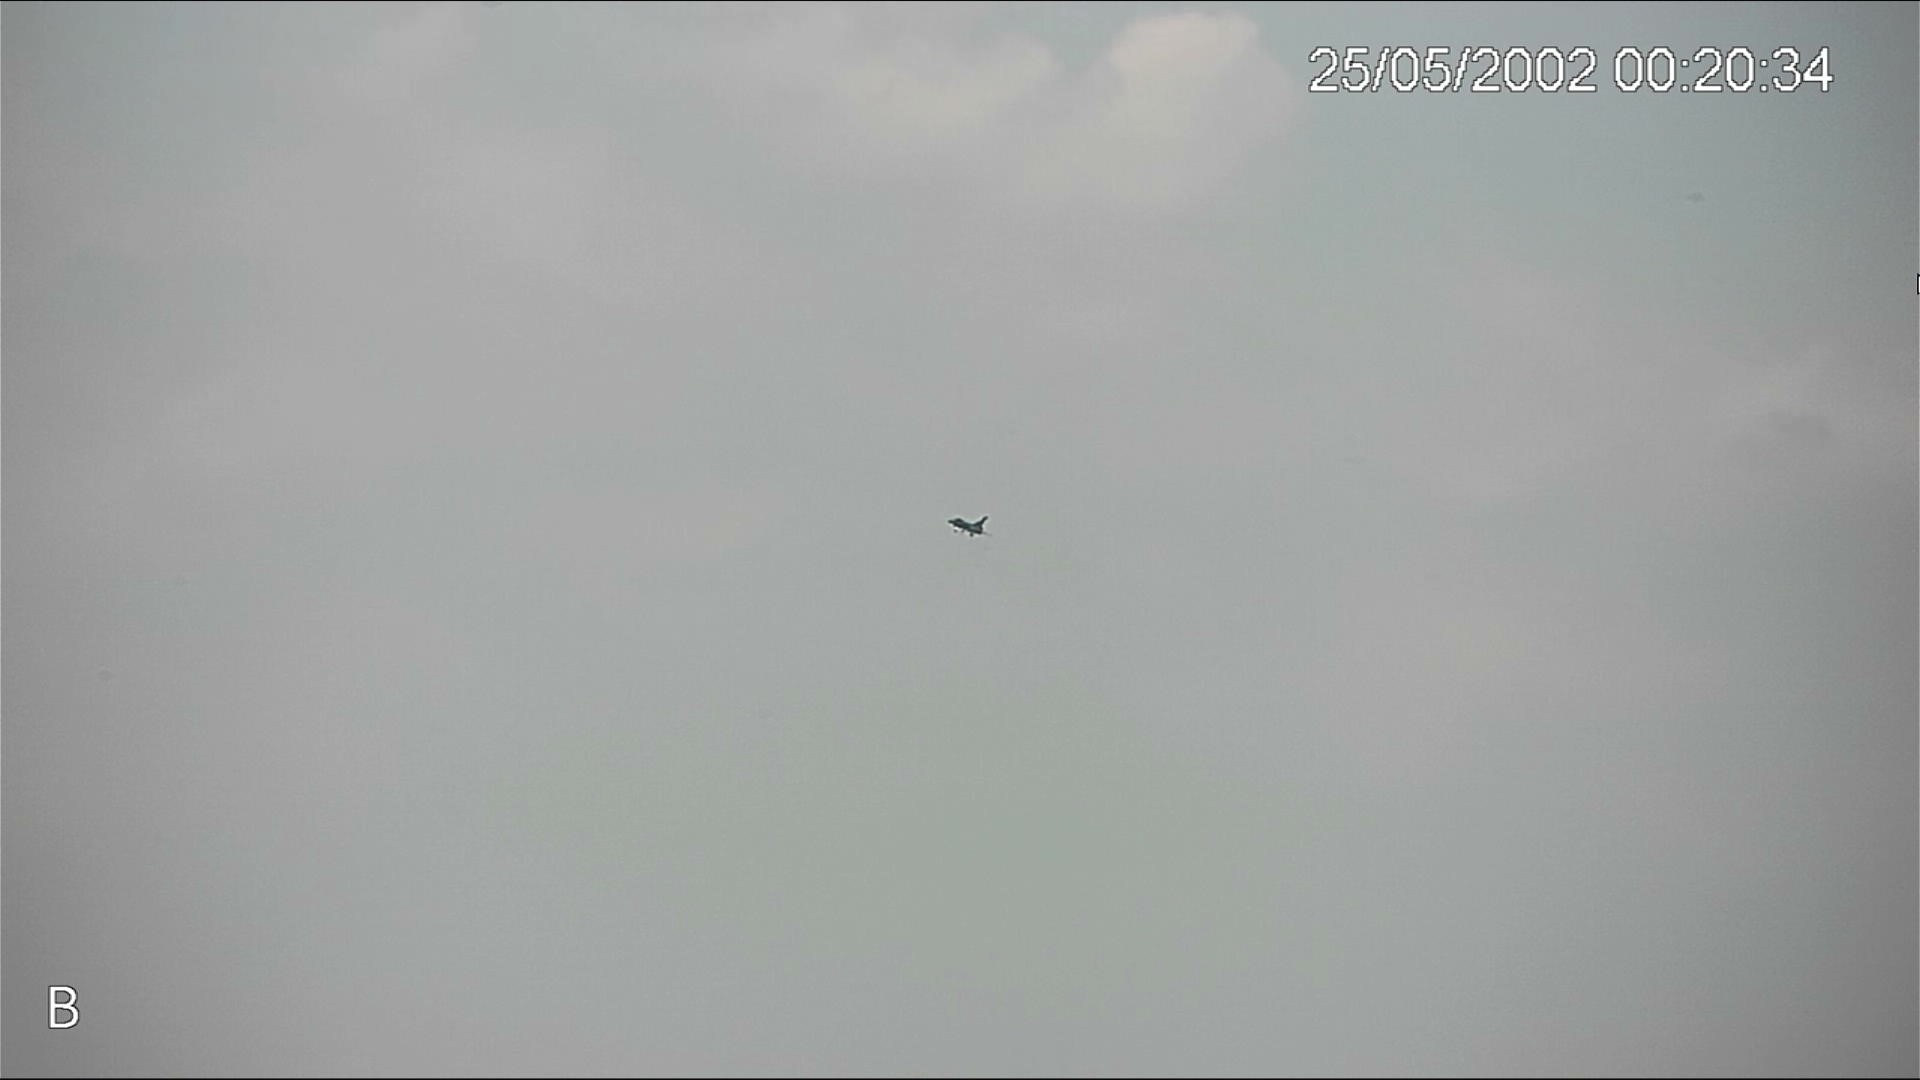SU_30: (945, 512, 992, 539)
